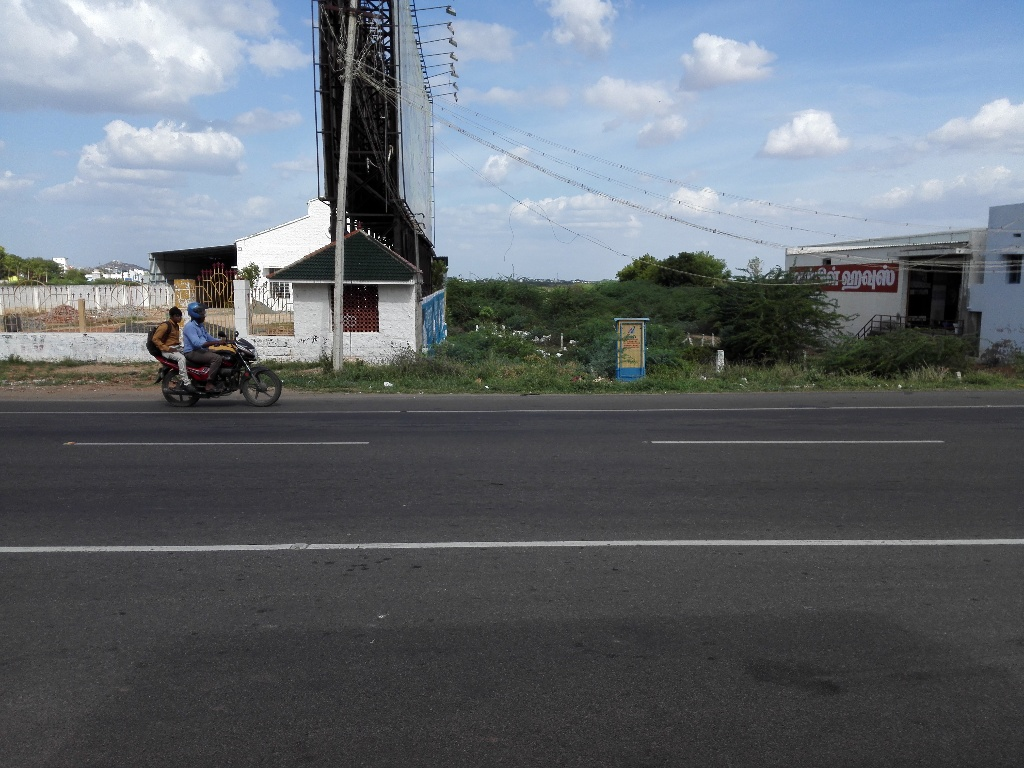biker: (138, 278, 292, 421)
helmet: (185, 292, 210, 329)
nohelmet: (164, 302, 186, 331)
